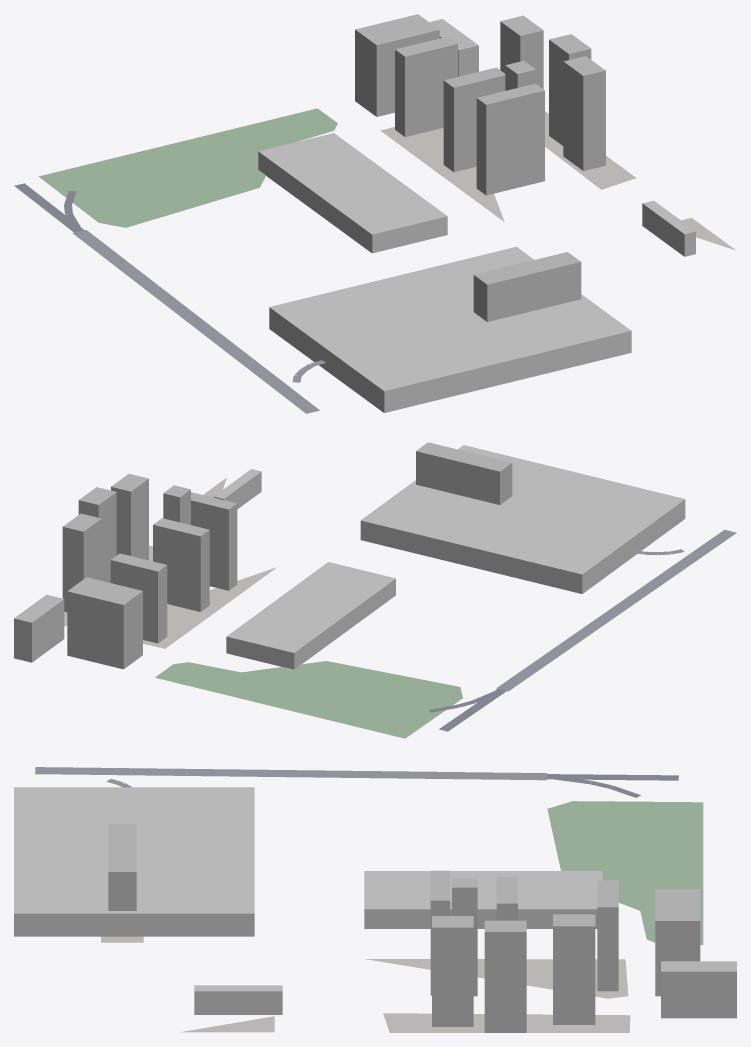
The model's file is 120_88_mid.glb.
The picture shows the model from 3 angles, top to bottom: view 1: azimuth 30°, elevation 25°; view 2: azimuth 150°, elevation 25°; view 3: azimuth 270°, elevation 25°; orthographic projection. The views are drawn at different scales.
Bounding box in the file's own units: 501 × 99.77 × 600.
